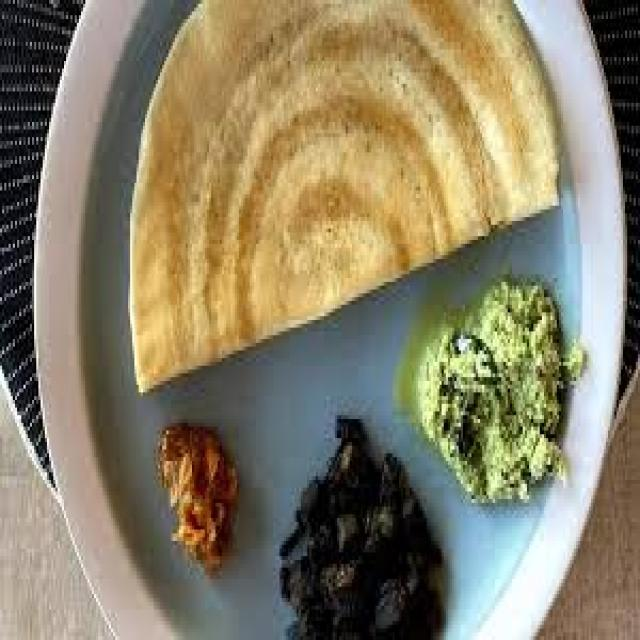Wet Waste: (124, 0, 557, 411), (407, 274, 574, 492)
